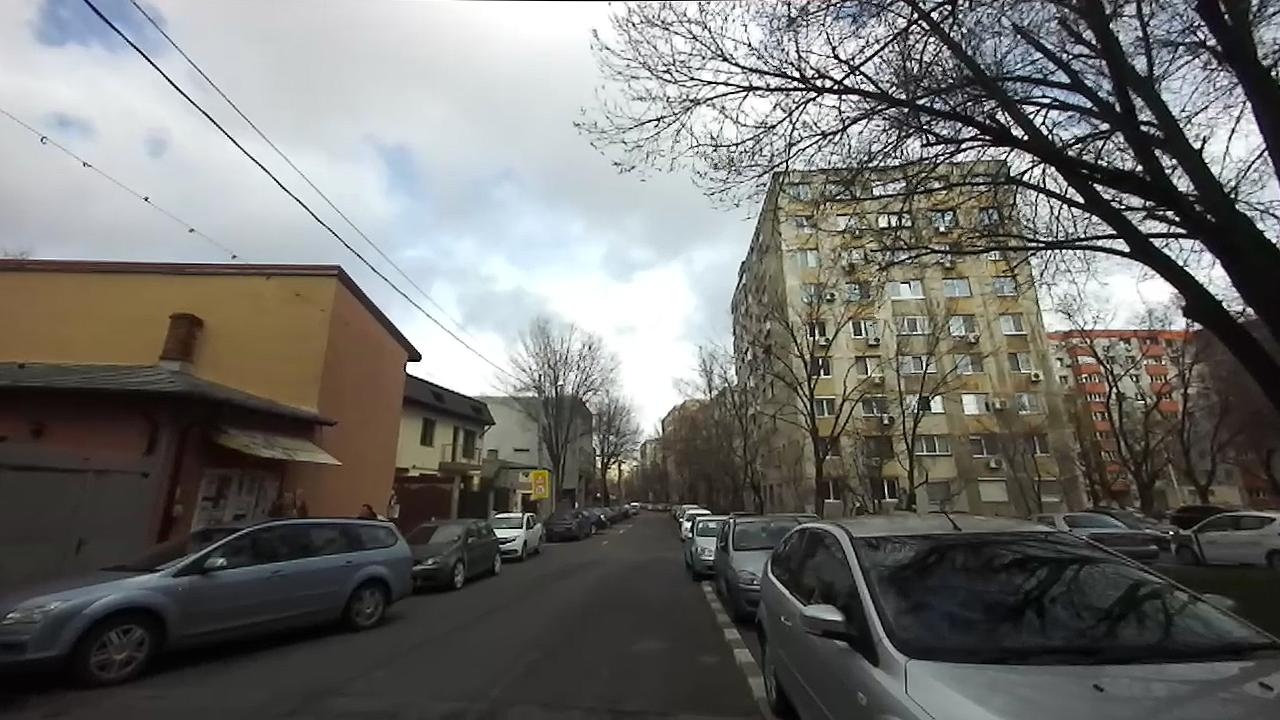pothole: (586, 703, 668, 718)
